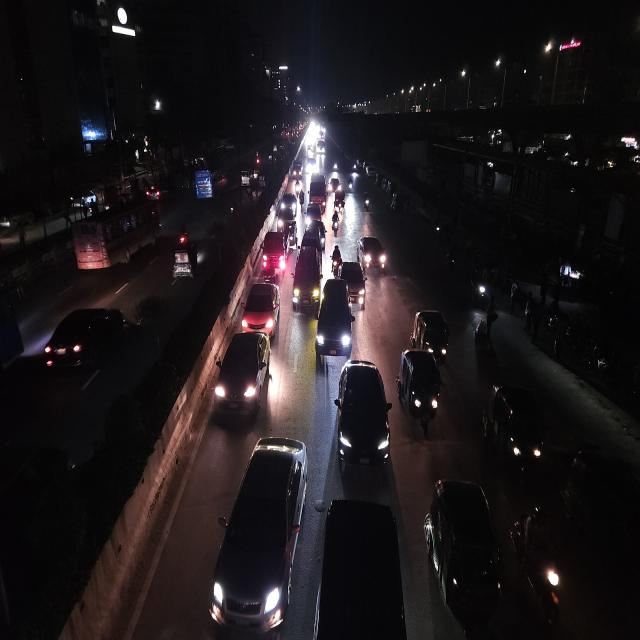bus: (68, 198, 162, 274), (192, 163, 227, 203)
car: (208, 433, 311, 640), (334, 355, 392, 477), (511, 504, 565, 635), (41, 301, 132, 375), (211, 328, 273, 427), (315, 276, 353, 367), (239, 276, 282, 336), (291, 240, 323, 316), (340, 259, 368, 314), (356, 231, 390, 274), (308, 172, 327, 213), (278, 190, 298, 221), (329, 173, 341, 195)
cng: (428, 474, 502, 636), (491, 376, 550, 482), (400, 343, 448, 433), (408, 304, 452, 362), (170, 238, 204, 283), (334, 190, 346, 210)
motorcycle: (511, 504, 565, 635), (329, 241, 343, 278), (175, 222, 191, 248), (331, 209, 341, 237), (362, 192, 372, 215), (294, 178, 305, 197), (298, 184, 306, 207), (347, 174, 355, 194), (331, 159, 339, 175)
pedestrian: (486, 294, 498, 344)
pickup_van: (262, 223, 289, 273)
truck: (292, 160, 304, 179)
